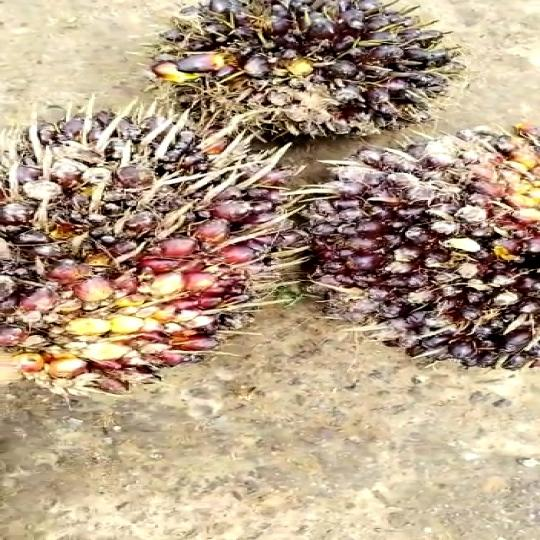kurang masak: (0, 98, 291, 393), (289, 112, 540, 400), (124, 0, 465, 152)
